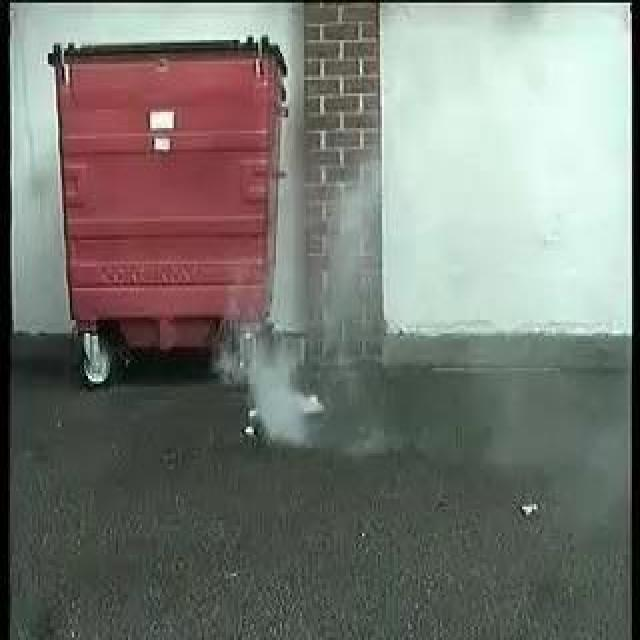Smoke: (217, 311, 327, 444)
